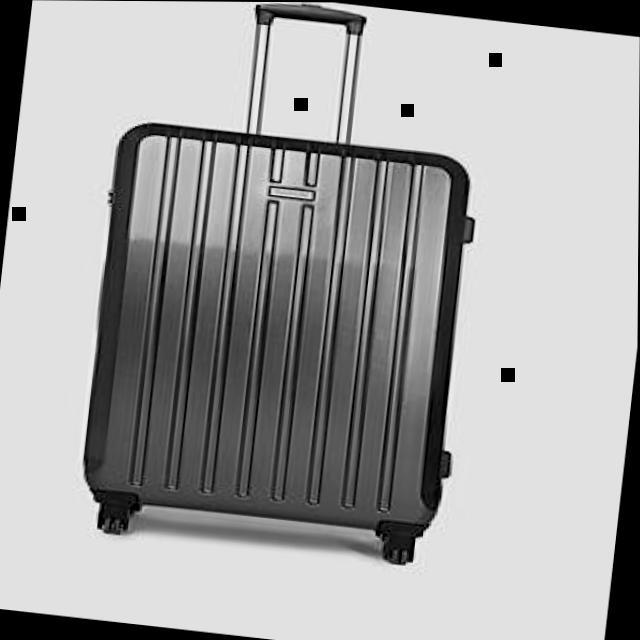luggage: (66, 105, 490, 551)
